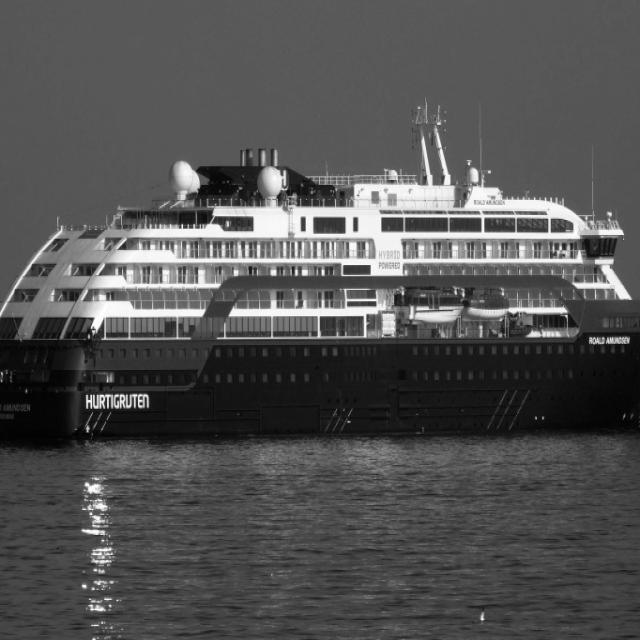cruises: (1, 96, 640, 452)
